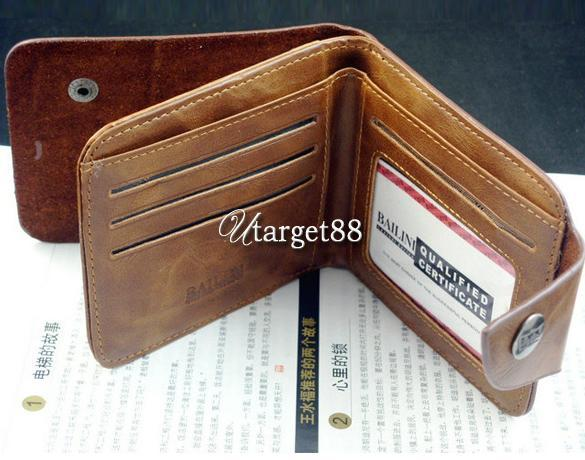monedero: (5, 21, 585, 421)
